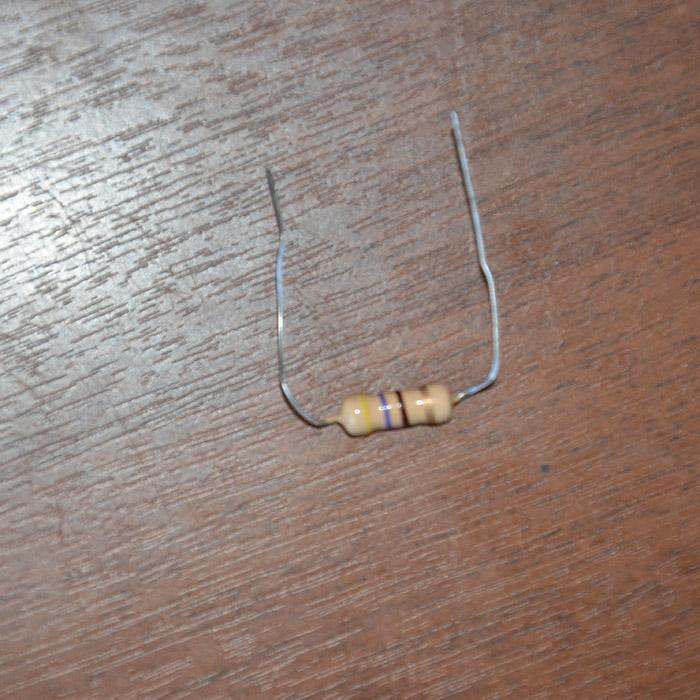resistor: (326, 382, 457, 436)
